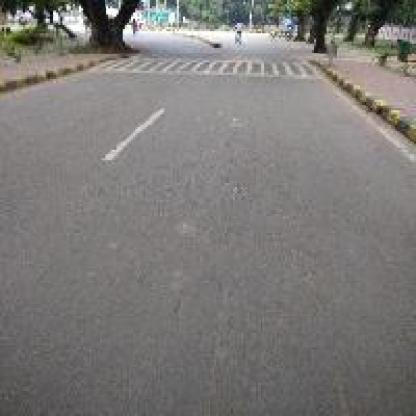Speed Bump: (90, 54, 324, 79)
